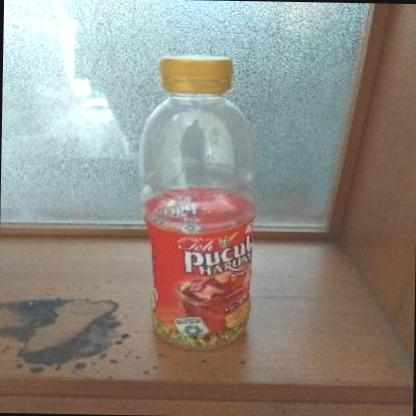plastic_bottles: (128, 48, 261, 352)
